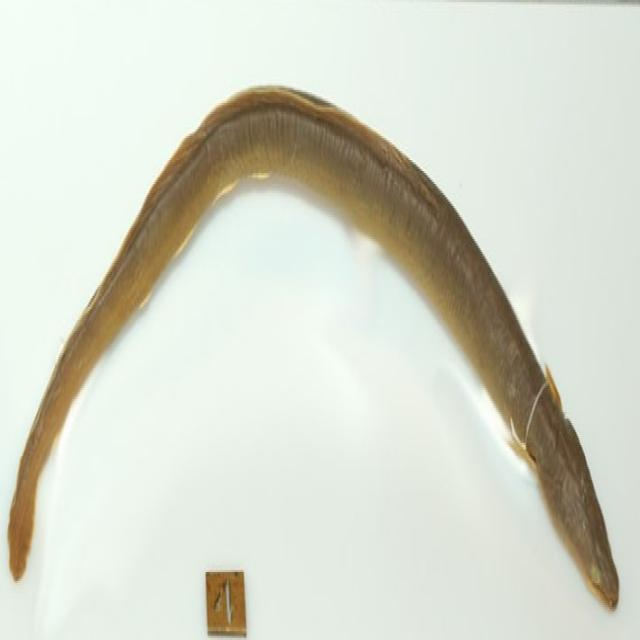Freshwater-Eel: (1, 29, 628, 616)
